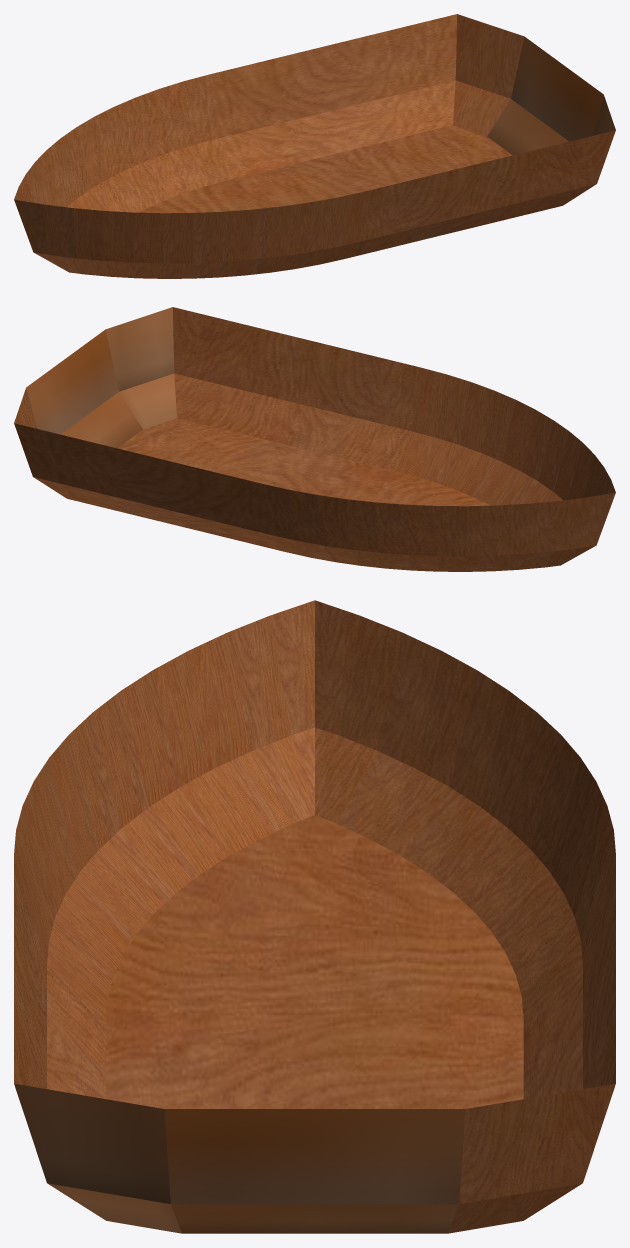
File: GMLID_0598627_75956_700.dae
3 views of the same model, one above another, from view 1: azimuth 30°, elevation 25°; view 2: azimuth 150°, elevation 25°; view 3: azimuth 270°, elevation 25° (orthographic). The views are drawn at different scales.
Bounding box in the file's own units: 3 × 1.5 × 0.45.
1 material, 1 textured.
